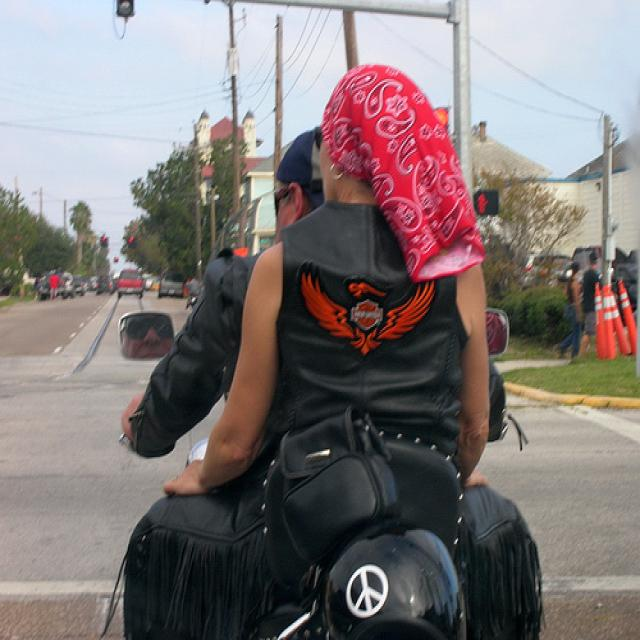motor: (121, 311, 510, 633)
